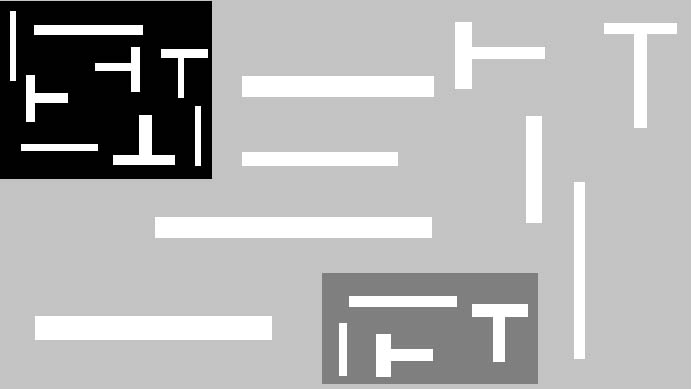LaneMark: (598, 19, 682, 129), (150, 213, 439, 243), (28, 311, 278, 345), (451, 17, 548, 89), (238, 71, 438, 104), (471, 301, 533, 368), (237, 146, 402, 171), (568, 177, 589, 365), (109, 112, 179, 168), (371, 331, 435, 379), (157, 45, 211, 100), (23, 70, 72, 126), (90, 46, 147, 94), (29, 20, 149, 41), (522, 111, 543, 229), (346, 292, 460, 311), (6, 7, 20, 85), (190, 102, 205, 171), (21, 141, 100, 154), (336, 320, 350, 378)
